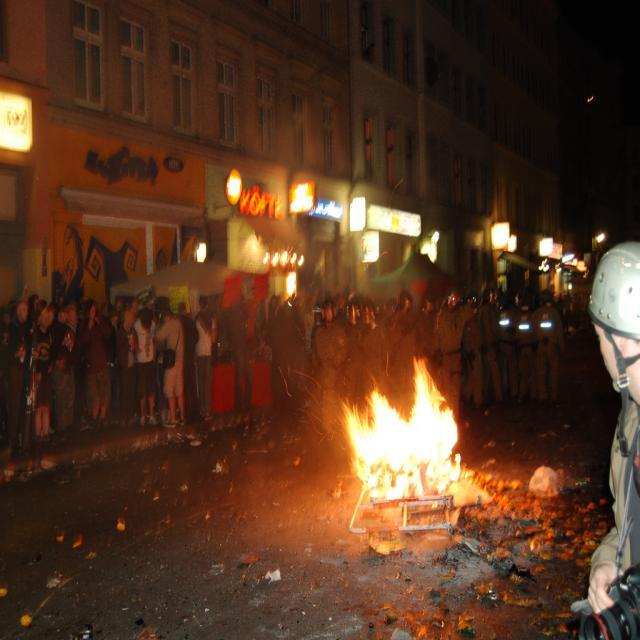Fire: (366, 412, 452, 479)
